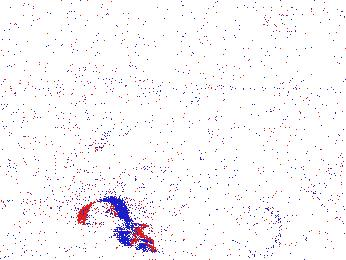flame jellyfish: (74, 199, 158, 253), (63, 93, 113, 153), (230, 206, 282, 257)
